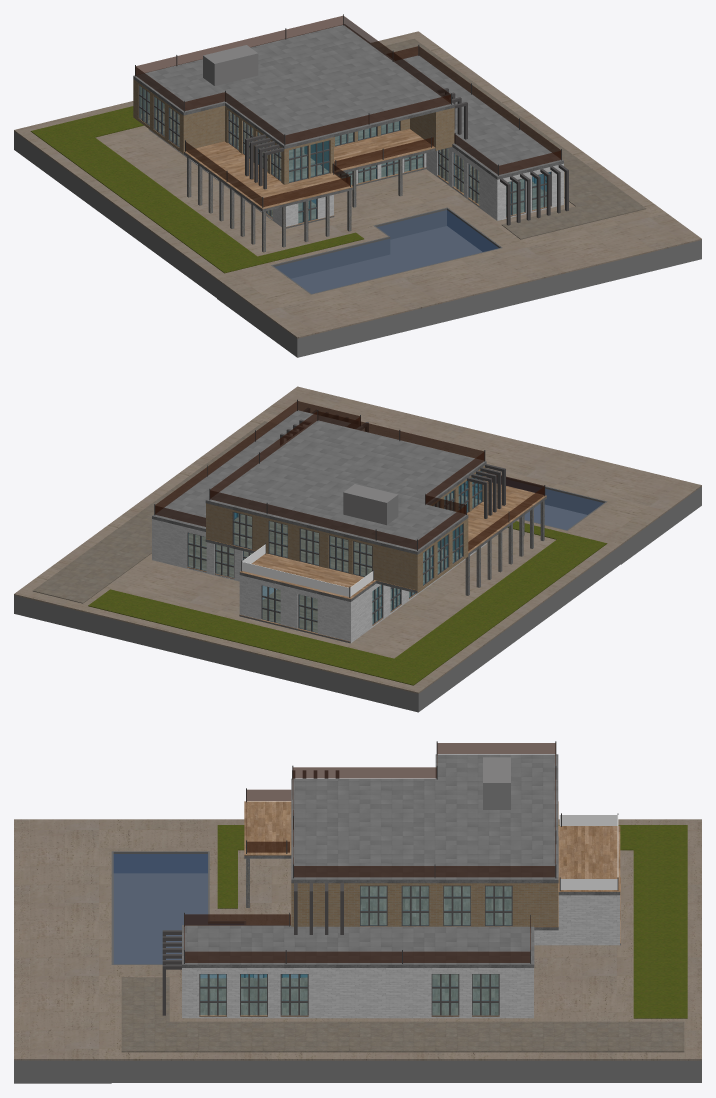
Rendered from villa-mobile.glb.
3 views of the same model, one above another, from view 1: azimuth 30°, elevation 25°; view 2: azimuth 150°, elevation 25°; view 3: azimuth 270°, elevation 25° (orthographic). The views are drawn at different scales.
Visible parts, largest first — view 1: Line010, Line007, Line012, Line015, Line013, Rectangle003, Line014, Line016, Line021, Line004, Rectangle004, Line009 (+10 smaller); view 2: Line010, Line007, Line012, Line015, Line011, Rectangle003, Line001, Line016, Line004, Line021, Rectangle004, Line018 (+10 smaller); view 3: Line007, Line012, Line010, Line016, Line001, Rectangle004, Line011, Line015, Rectangle003, Line014, Line009, Line004 (+23 smaller).
Part boxes in pixels (x1=…): Line010: x1=14, y1=31, x2=661, y2=279; Line007: x1=133, y1=24, x2=454, y2=146; Line012: x1=217, y1=209, x2=701, y2=338; Line015: x1=30, y1=106, x2=363, y2=273; Line013: x1=217, y1=240, x2=701, y2=357; Rectangle003: x1=139, y1=108, x2=435, y2=209; Line014: x1=275, y1=210, x2=498, y2=293; Line016: x1=378, y1=38, x2=646, y2=239; Line021: x1=135, y1=16, x2=450, y2=144; Line004: x1=133, y1=79, x2=454, y2=184; Rectangle004: x1=396, y1=55, x2=563, y2=176; Line009: x1=291, y1=226, x2=482, y2=293; Line010: x1=14, y1=416, x2=621, y2=693; Line007: x1=206, y1=420, x2=486, y2=552; Line012: x1=257, y1=386, x2=701, y2=544; Line015: x1=88, y1=521, x2=607, y2=685; Line011: x1=14, y1=546, x2=621, y2=712; Rectangle003: x1=206, y1=481, x2=546, y2=599; Line001: x1=152, y1=429, x2=486, y2=642; Line016: x1=33, y1=421, x2=276, y2=603; Line004: x1=206, y1=465, x2=486, y2=592; Line021: x1=210, y1=411, x2=484, y2=549; Rectangle004: x1=152, y1=410, x2=362, y2=529; Line018: x1=155, y1=401, x2=360, y2=526; Line007: x1=291, y1=754, x2=558, y2=880; Line012: x1=14, y1=819, x2=209, y2=1060; Line010: x1=111, y1=819, x2=701, y2=1060; Line016: x1=121, y1=977, x2=684, y2=1052; Line001: x1=182, y1=895, x2=620, y2=1018; Rectangle004: x1=182, y1=925, x2=534, y2=964; Line011: x1=111, y1=1060, x2=701, y2=1082; Line015: x1=217, y1=825, x2=687, y2=1018; Rectangle003: x1=244, y1=801, x2=620, y2=927; Line014: x1=113, y1=854, x2=243, y2=963; Line009: x1=113, y1=873, x2=207, y2=964; Line004: x1=291, y1=883, x2=558, y2=926.
Size of the model in its own units: 32.85 by 9.74 by 39.87.
19 materials, 9 textured.
